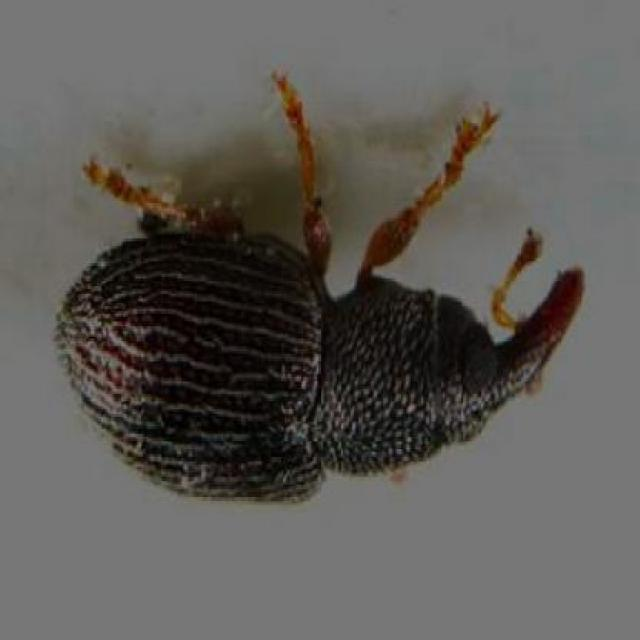rice-bug: (50, 155, 588, 508)
